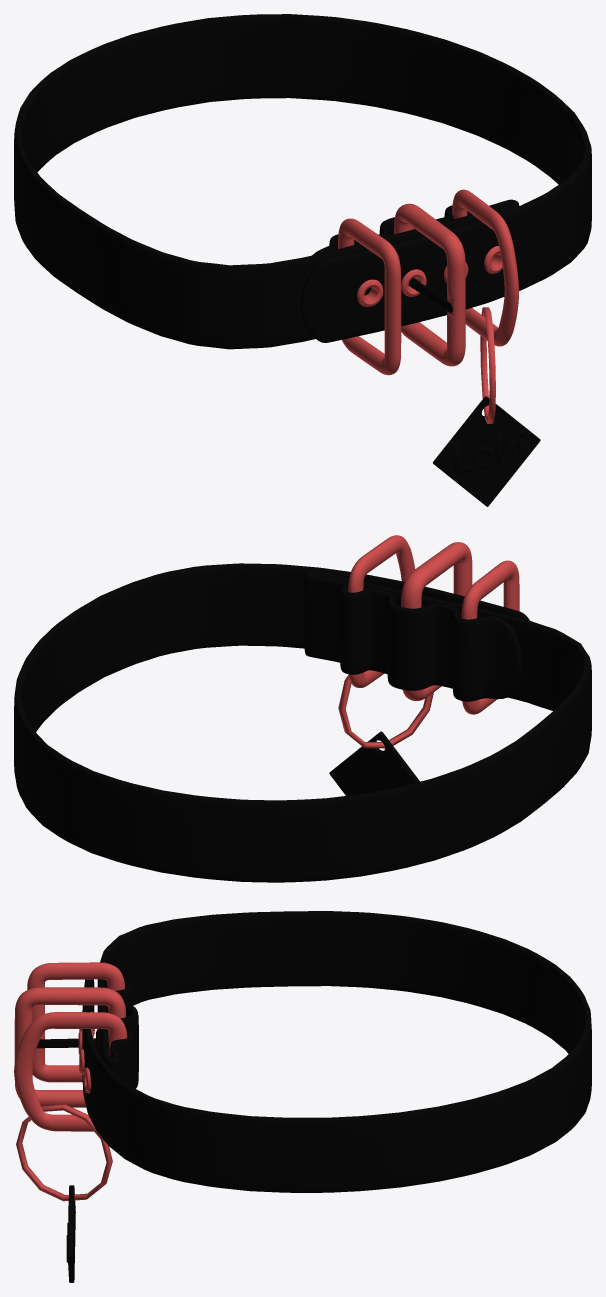
Rendered from producto2.fbx.
3 views of the same model, one above another, from view 1: azimuth 30°, elevation 25°; view 2: azimuth 150°, elevation 25°; view 3: azimuth 270°, elevation 25° (orthographic). The views are drawn at different scales.
Parts seen in each view (by area): view 1: Cube_001_Cube_000, Plane_003_Plane_002, Cylinder_004, Cylinder_005, Cylinder_003_Cylinder_000, Circle_007_Circle_002; view 2: Cube_001_Cube_000, Plane_003_Plane_002, Cylinder_004, Cylinder_005, Cylinder_003_Cylinder_000, Circle_007_Circle_002; view 3: Cube_001_Cube_000, Cylinder_003_Cylinder_000, Cylinder_004, Cylinder_005, Circle_007_Circle_002, Plane_003_Plane_002.
Part boxes in pixels (left/top/right/bottom): Cube_001_Cube_000: left=14, top=14, right=591, bottom=349; Plane_003_Plane_002: left=433, top=396, right=540, bottom=506; Cylinder_004: left=394, top=203, right=465, bottom=366; Cylinder_005: left=338, top=218, right=401, bottom=375; Cylinder_003_Cylinder_000: left=452, top=189, right=518, bottom=346; Circle_007_Circle_002: left=480, top=307, right=495, bottom=423; Cube_001_Cube_000: left=14, top=563, right=591, bottom=882; Plane_003_Plane_002: left=329, top=731, right=419, bottom=795; Cylinder_004: left=401, top=542, right=472, bottom=700; Cylinder_005: left=461, top=560, right=519, bottom=714; Cylinder_003_Cylinder_000: left=348, top=535, right=415, bottom=687; Circle_007_Circle_002: left=338, top=675, right=433, bottom=748; Cube_001_Cube_000: left=82, top=911, right=591, bottom=1192; Cylinder_003_Cylinder_000: left=14, top=1012, right=127, bottom=1131; Cylinder_004: left=14, top=987, right=125, bottom=1107; Cylinder_005: left=27, top=962, right=124, bottom=1082; Circle_007_Circle_002: left=16, top=1104, right=112, bottom=1201; Plane_003_Plane_002: left=66, top=1185, right=75, bottom=1282.
Bounding box in the file's own units: 17.37 × 10.39 × 20.18.
